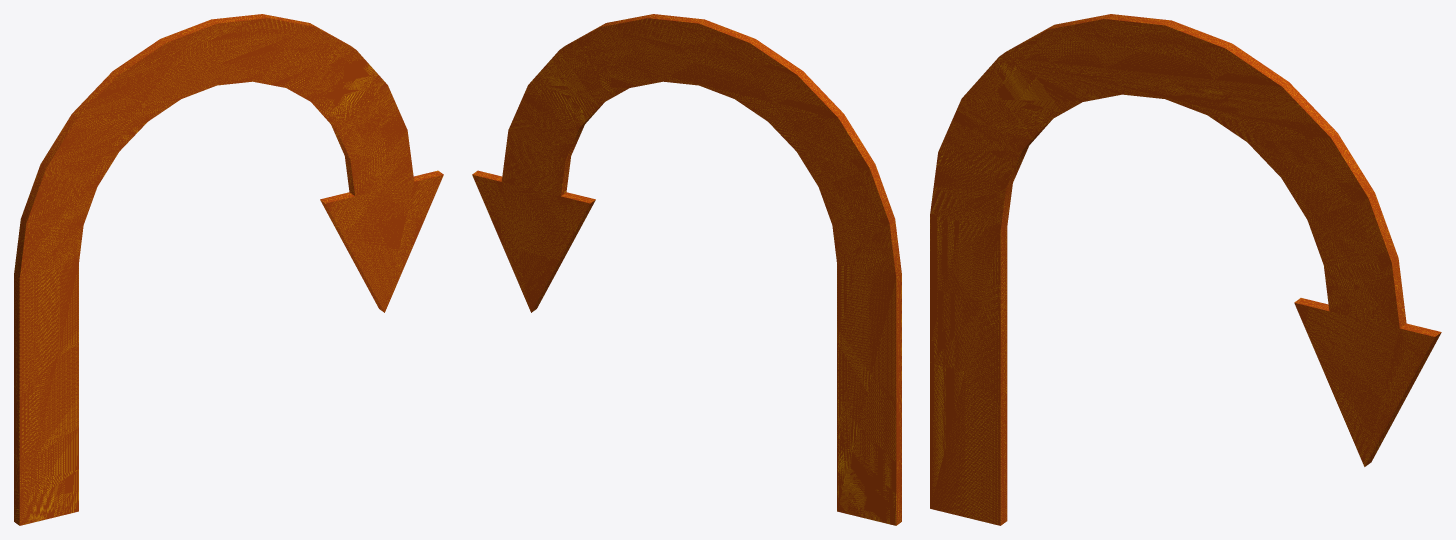
Rendered from arrow_right_4.fbx.
The picture shows the model from 3 angles, left to right: view 1: azimuth 30°, elevation 25°; view 2: azimuth 150°, elevation 25°; view 3: azimuth 330°, elevation 25°; orthographic projection. The views are drawn at different scales.
Visible parts, largest first — view 1: Group1; view 2: Group1; view 3: Group1.
Part boxes in pixels (x1,y1,x2,y2): Group1: (14, 14, 443, 525); Group1: (472, 14, 901, 525); Group1: (930, 14, 1441, 525).
Bounding box in the file's own units: 1.08 × 1.1 × 0.025.
